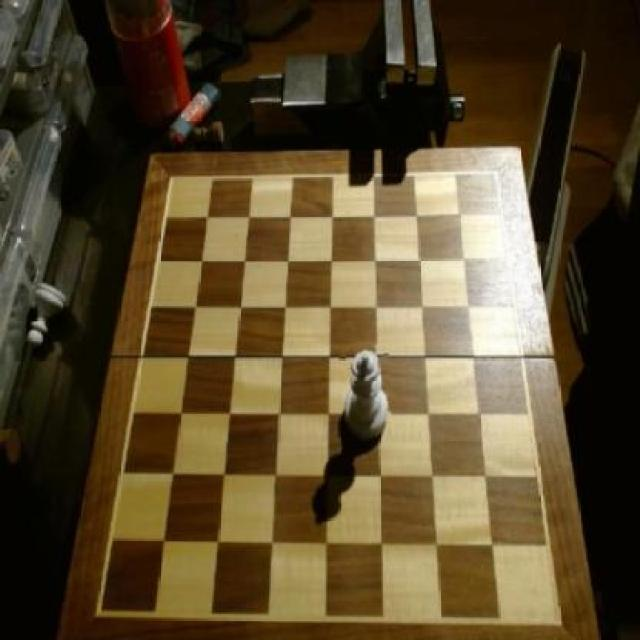white-pawn: (342, 344, 393, 446)
